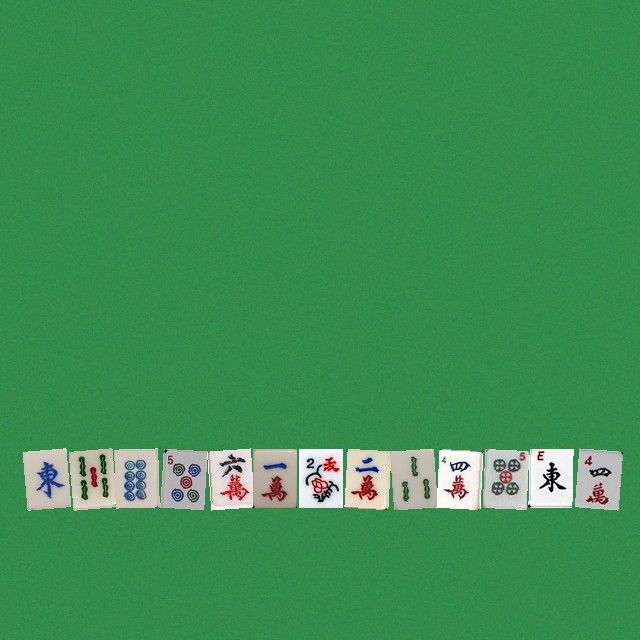tile: (22, 448, 66, 507), (68, 448, 112, 507), (114, 448, 158, 507), (160, 448, 204, 507), (206, 448, 250, 507), (252, 448, 296, 507), (298, 448, 342, 507), (344, 448, 388, 507), (390, 448, 434, 507), (436, 448, 480, 507), (482, 448, 526, 507), (528, 448, 572, 507), (574, 448, 618, 507)
